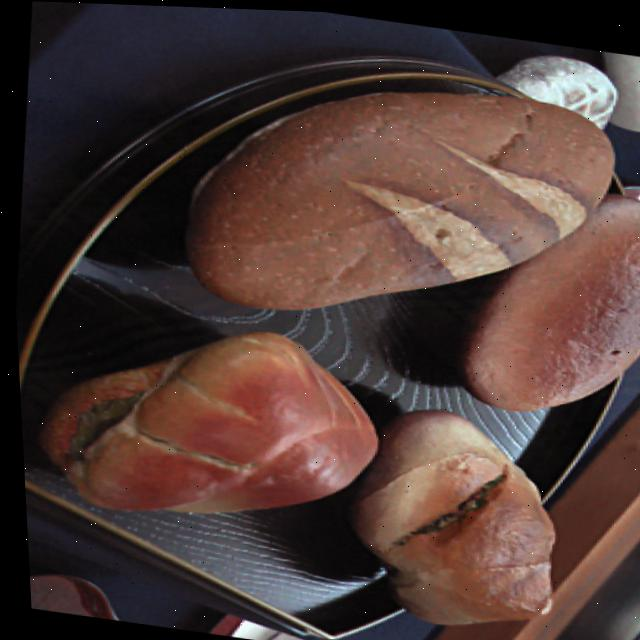三明治: (3, 14, 640, 640)
